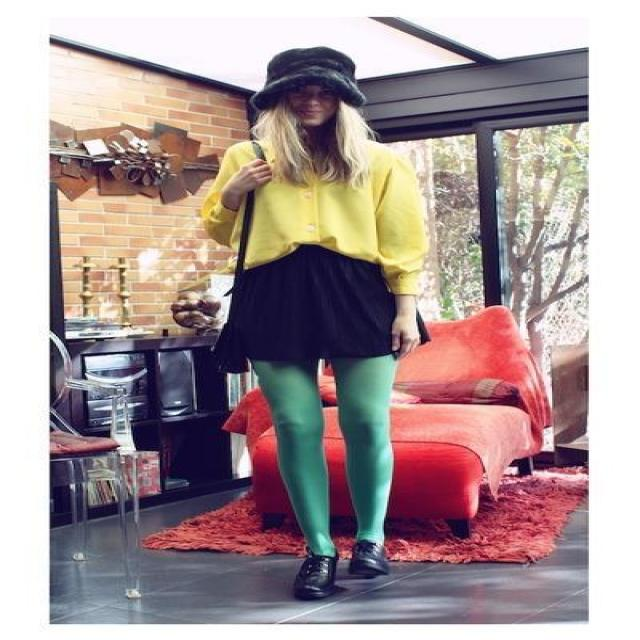bag: (229, 243, 288, 273)
hat: (264, 47, 354, 88)
shirt: (205, 147, 448, 315)
shoe: (293, 550, 387, 600)
shorts: (216, 244, 402, 370)
